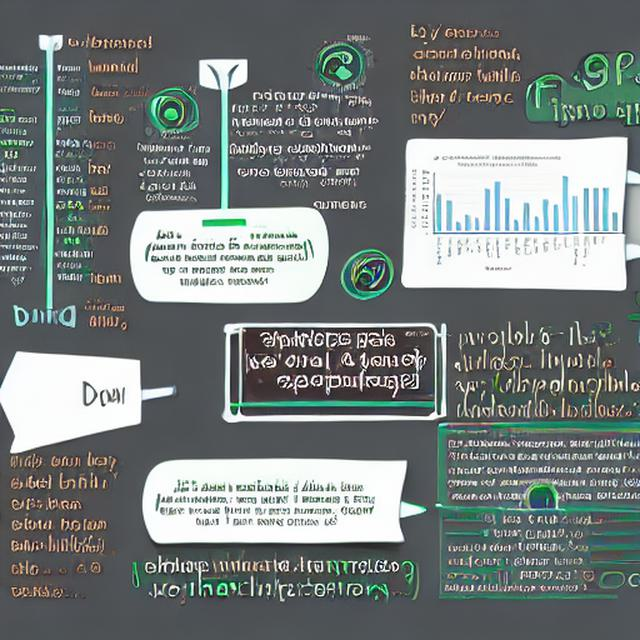Graph: (408, 151, 582, 276)
